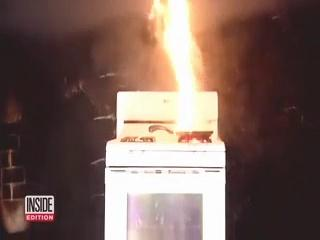Fire: (158, 1, 216, 134)
